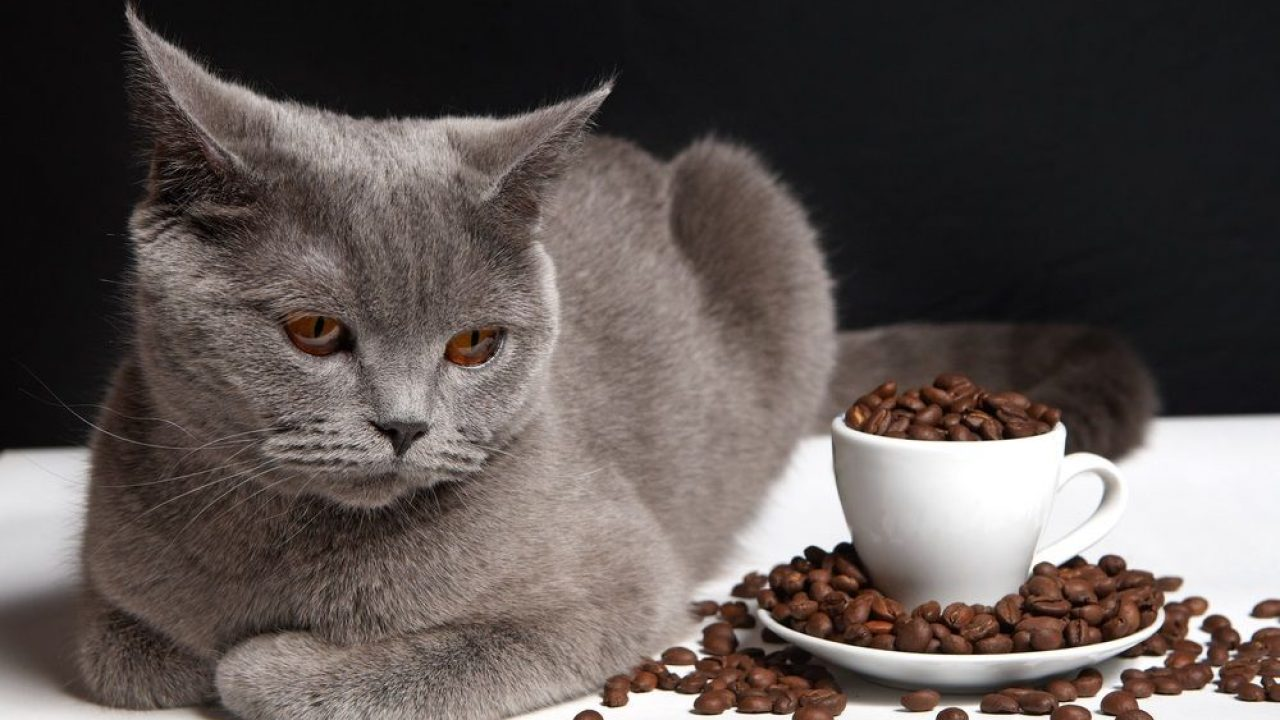cat: (110, 25, 813, 683)
